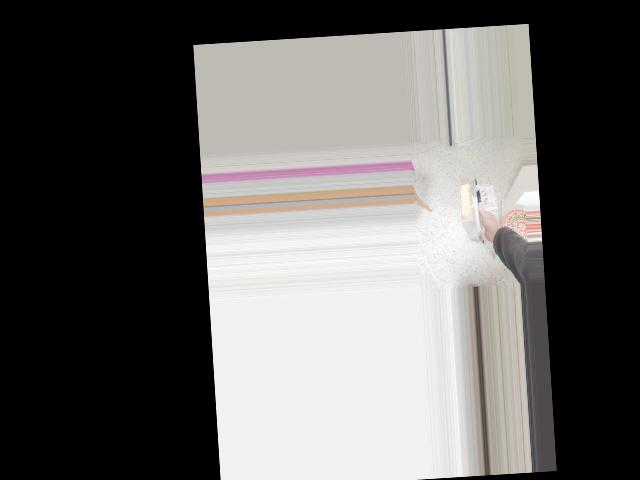cheese: (443, 183, 514, 256)
